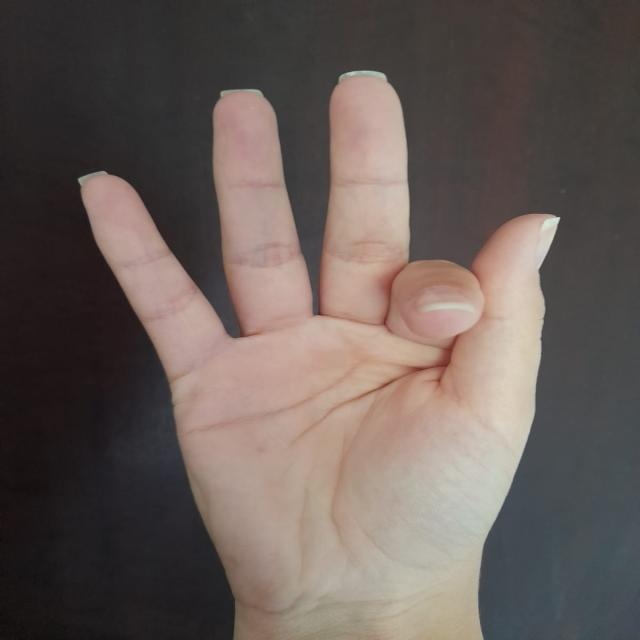F: (48, 64, 600, 602)
